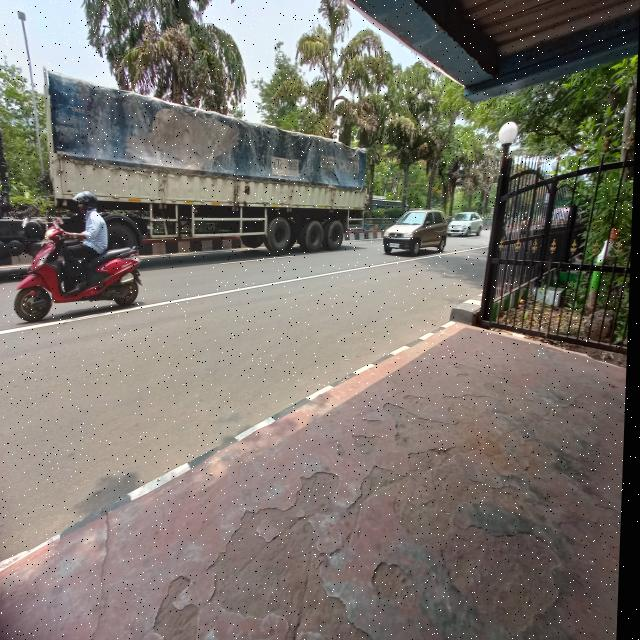bike: (10, 219, 144, 315)
car: (380, 204, 461, 268), (453, 208, 486, 252)
